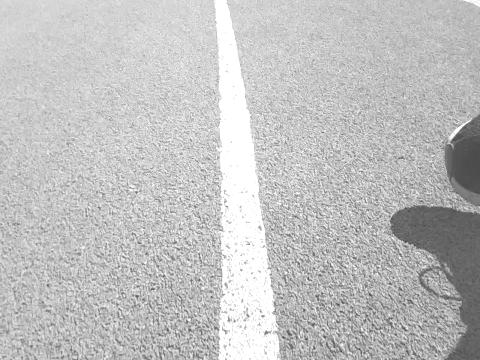Lines: (214, 0, 279, 360)
